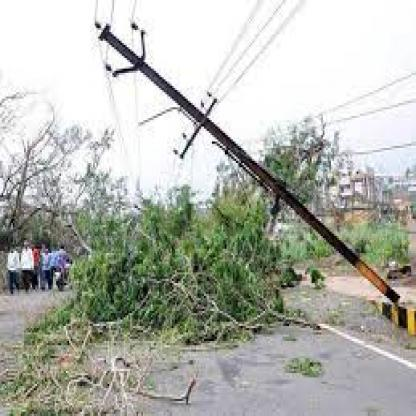Electrical Pole: (80, 4, 409, 331)
